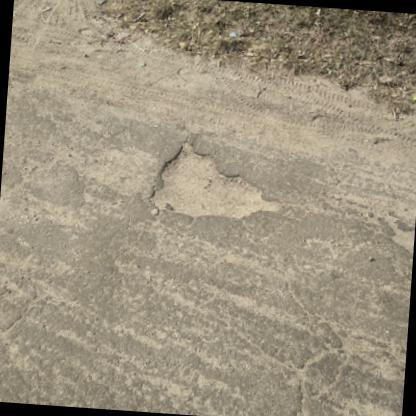pothole: (146, 140, 286, 222), (9, 142, 154, 212), (377, 205, 416, 257)
